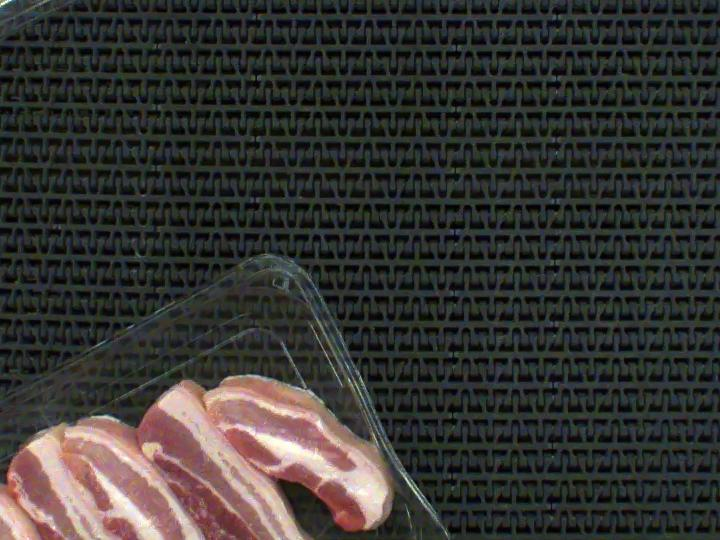loose-meat: (215, 348, 365, 534)
packaging-error: (338, 403, 426, 540)
